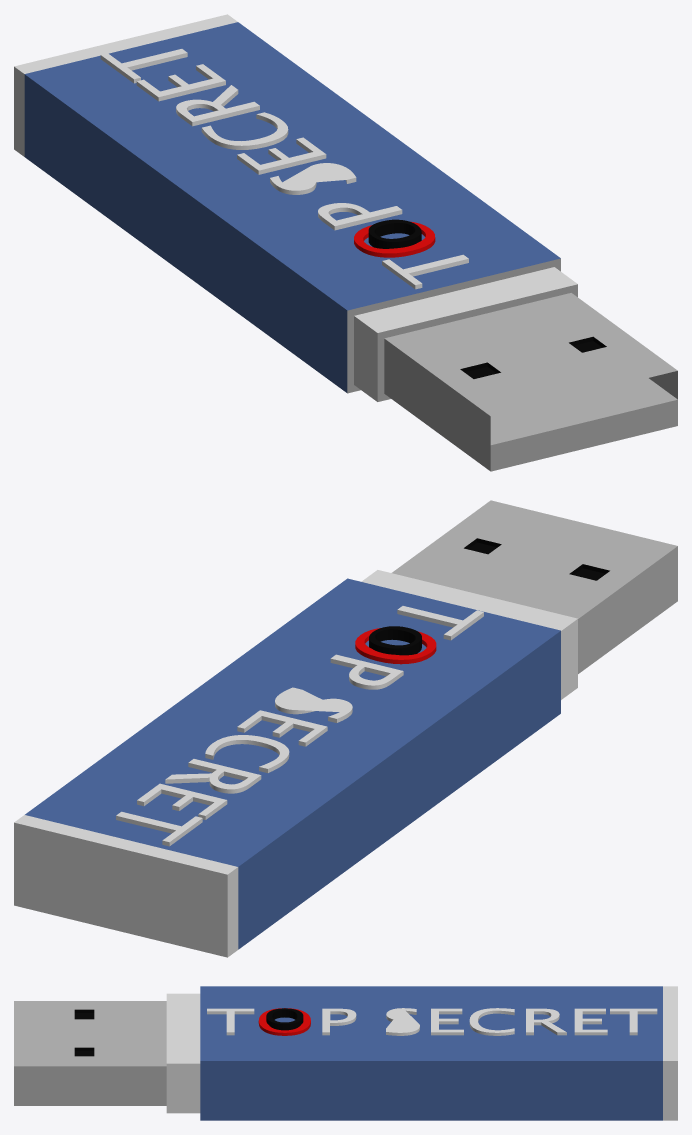
The model's file is USB.fbx.
3 views of the same model, one above another, from view 1: azimuth 30°, elevation 25°; view 2: azimuth 150°, elevation 25°; view 3: azimuth 270°, elevation 25° (orthographic). The views are drawn at different scales.
Parts seen in each view (by area): view 1: typeMesh3; view 2: typeMesh3; view 3: typeMesh3.
Part boxes in pixels (<box>): typeMesh3: <box>14,14,677,471</box>; typeMesh3: <box>14,500,677,957</box>; typeMesh3: <box>14,986,677,1120</box>.
Size of the model in its own units: 3.23 by 1.35 by 12.14.
